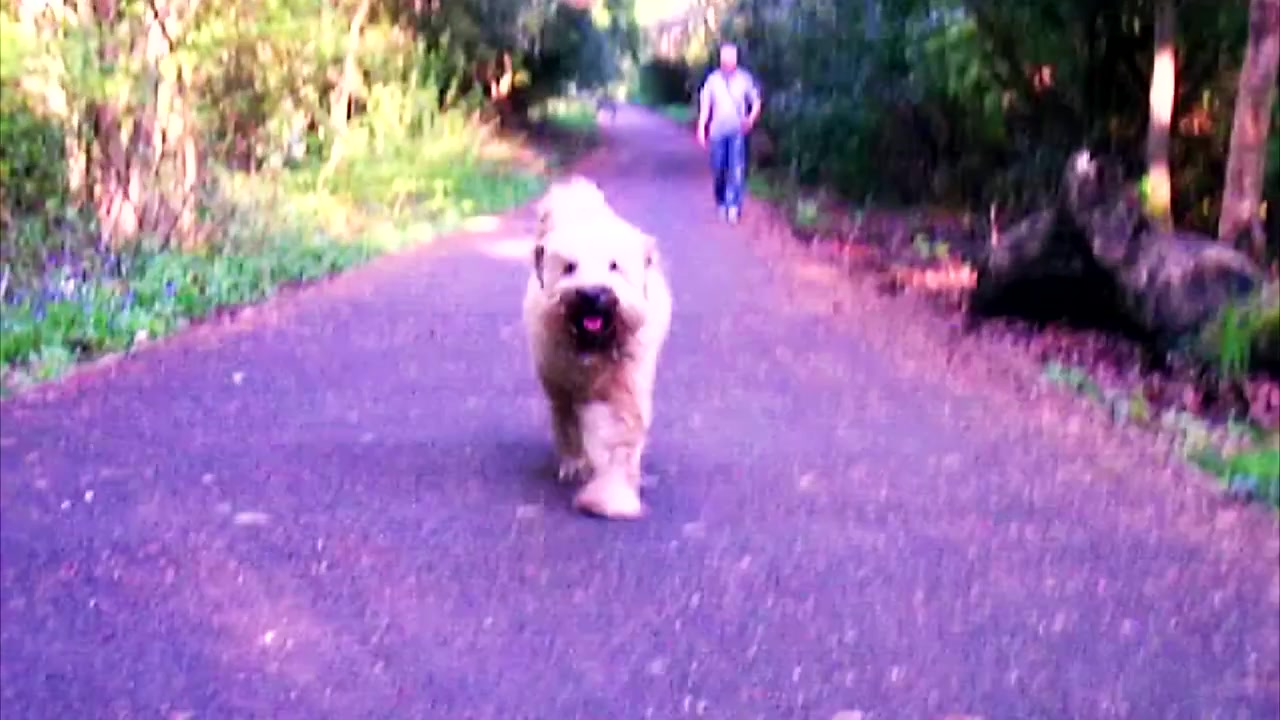dog: (521, 174, 677, 528)
